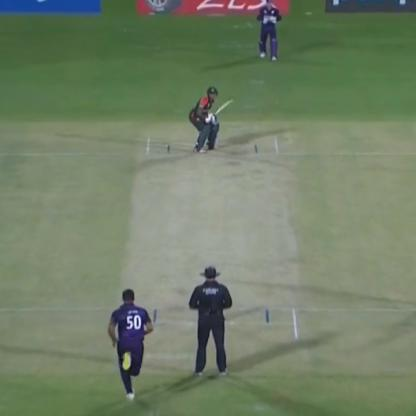bat: (204, 95, 235, 117)
pitch: (123, 132, 310, 359)
